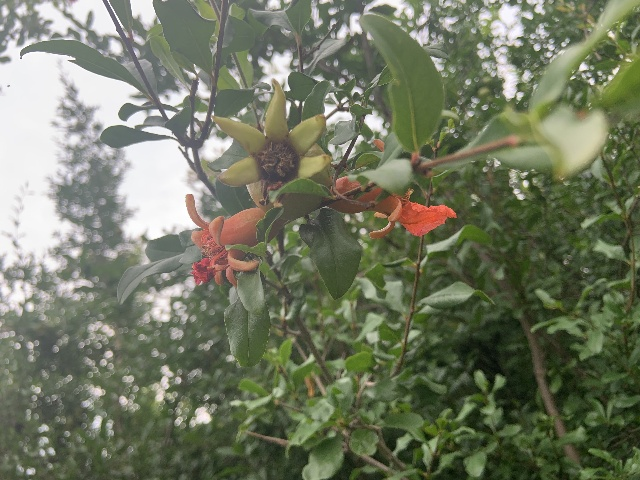early-fruit: (211, 77, 334, 213)
flower: (325, 139, 456, 238), (185, 193, 286, 286)
